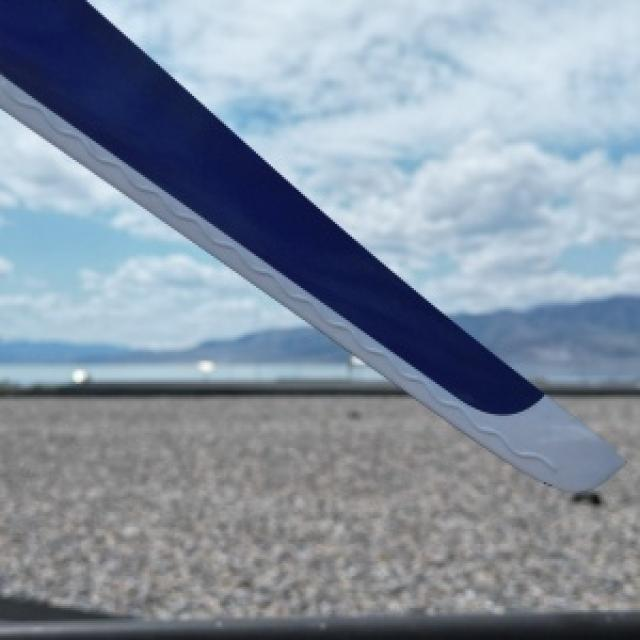healthy: (0, 0, 621, 491)
